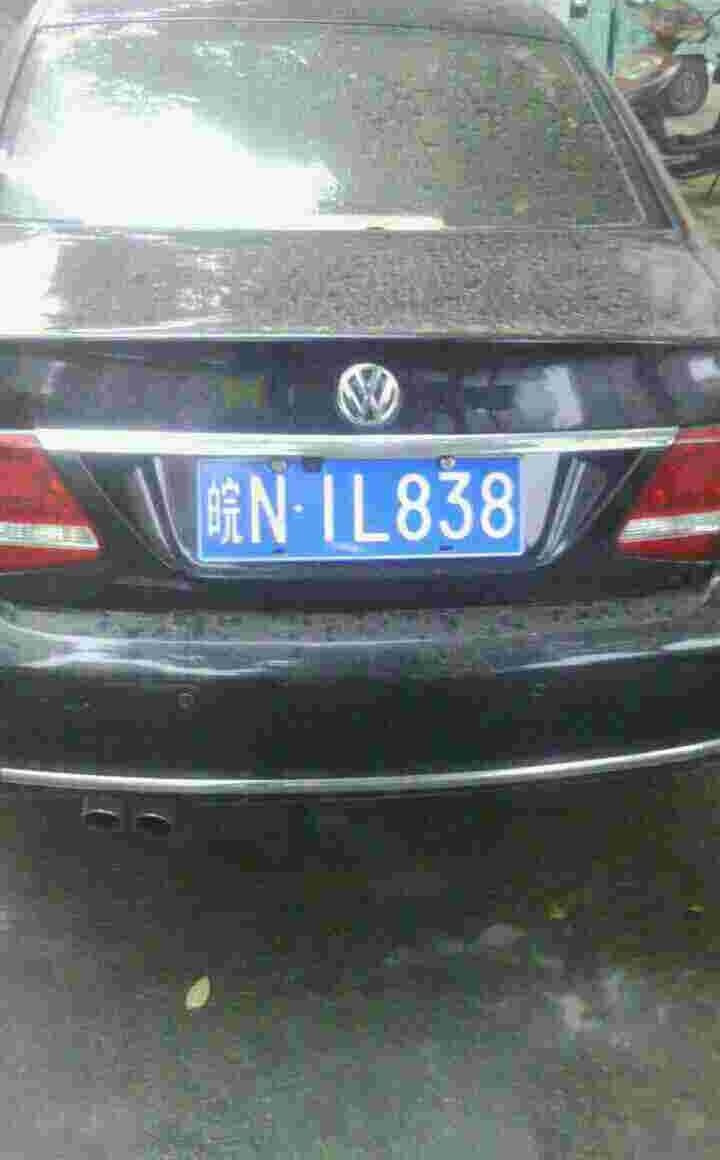license_plate: (205, 456, 530, 560)
